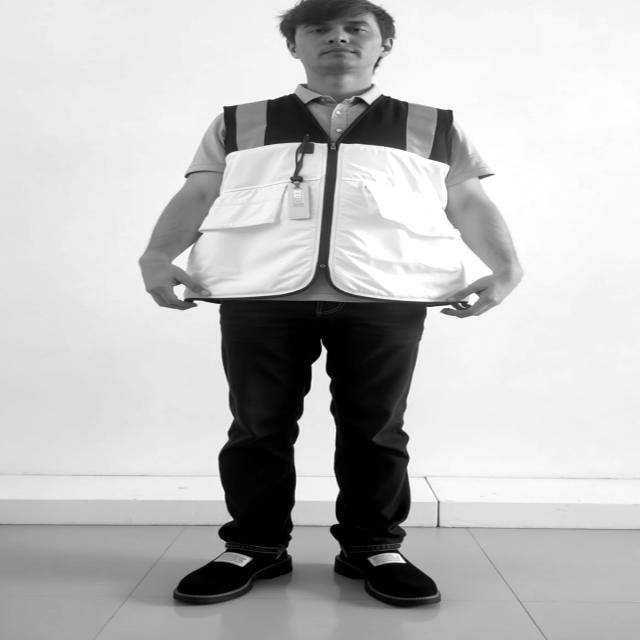Vest: (219, 103, 455, 303)
